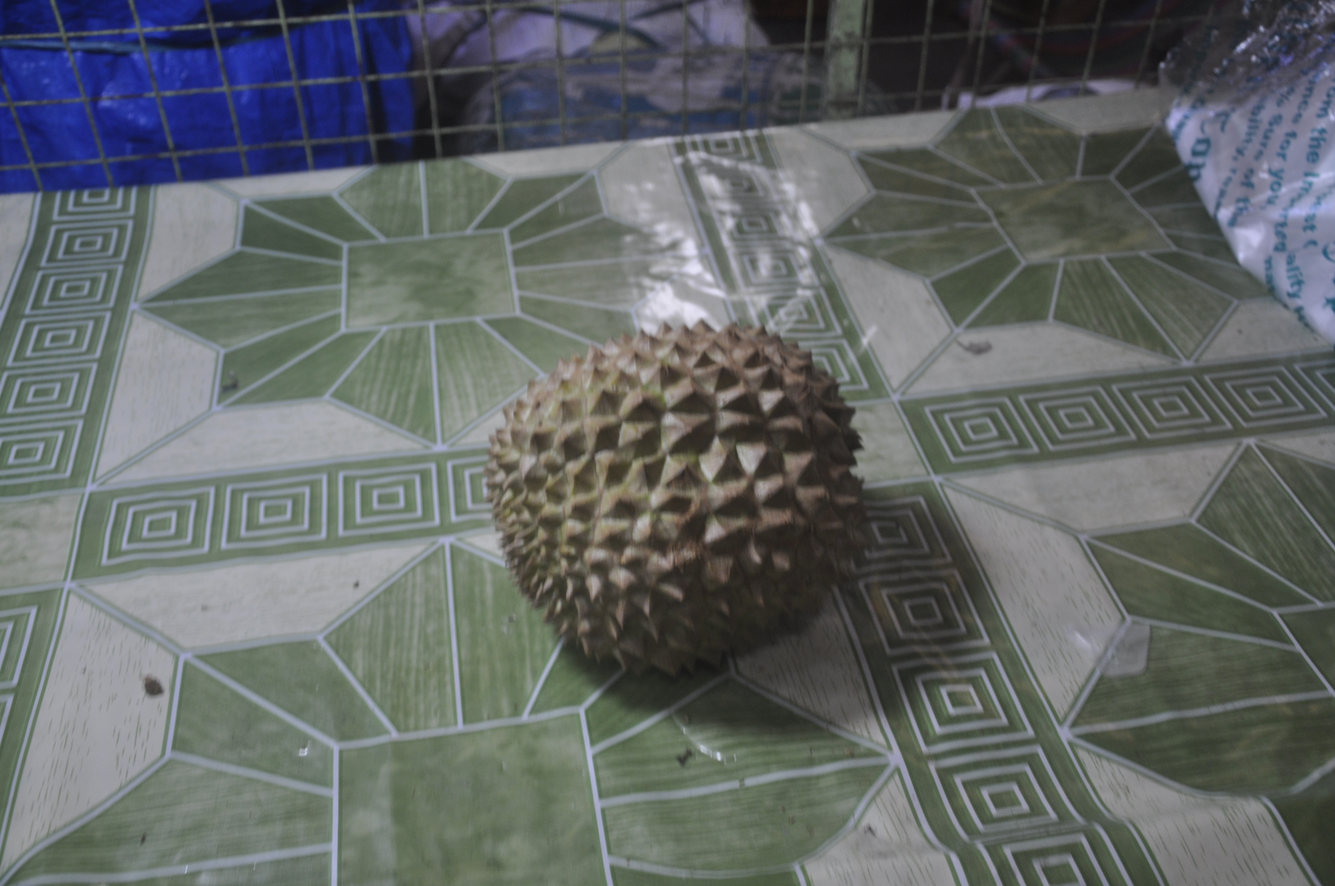mature: (484, 323, 872, 675)
